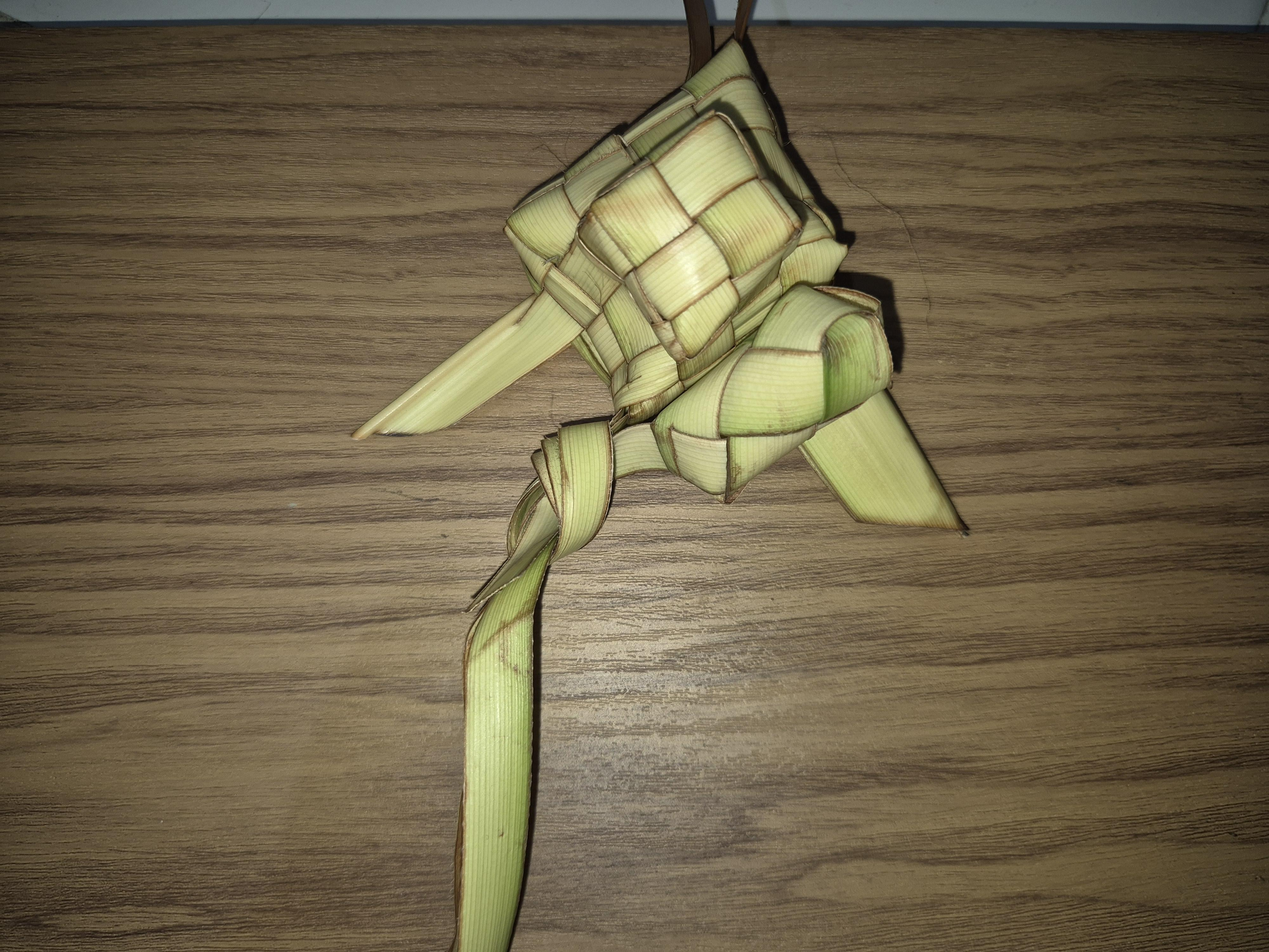Tipat Gong: (54, 317, 566, 572)
